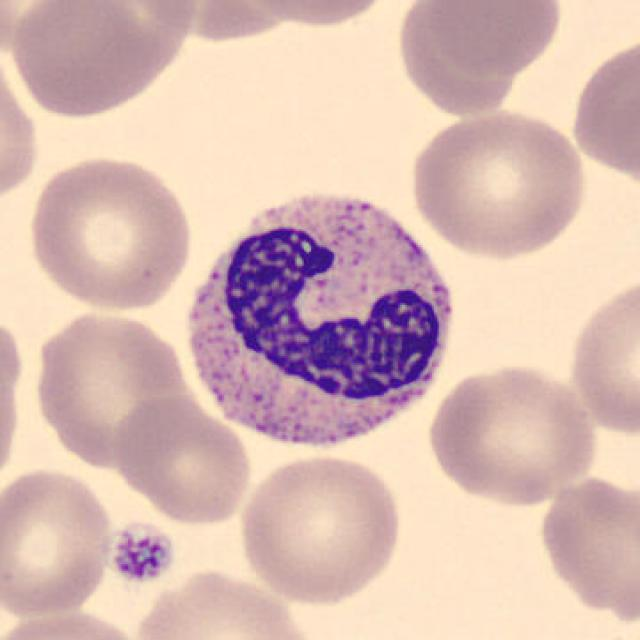Neutrophil: (174, 174, 466, 463)
Platelets: (106, 518, 178, 587)
RBC: (404, 106, 592, 261), (23, 150, 197, 315), (28, 305, 194, 471), (235, 452, 409, 606), (423, 360, 601, 510), (3, 0, 192, 123), (399, 0, 573, 112), (108, 395, 254, 527), (0, 462, 117, 620), (534, 471, 638, 626), (134, 566, 324, 640), (564, 270, 638, 441), (567, 32, 638, 190), (0, 44, 44, 211), (142, 0, 314, 42), (0, 603, 149, 640), (0, 0, 87, 62), (0, 310, 27, 496), (235, 0, 398, 30)
